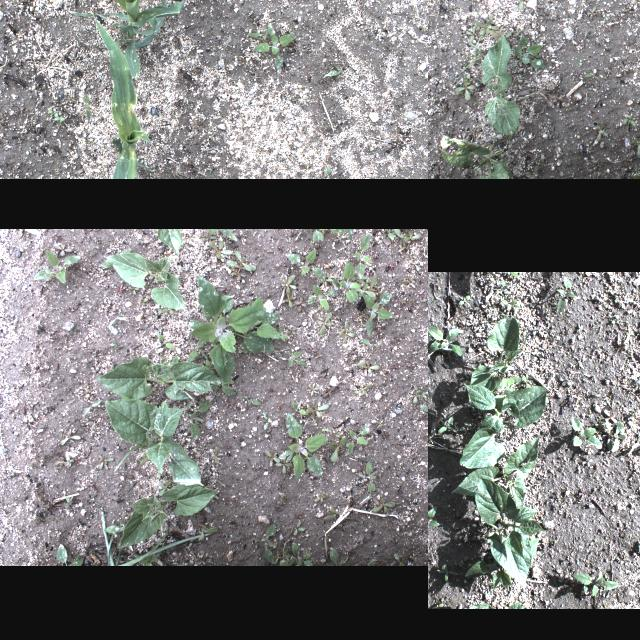crop: (63, 10, 154, 179), (68, 0, 184, 81), (104, 399, 204, 487), (459, 382, 546, 471), (467, 502, 549, 588), (450, 436, 540, 508), (119, 484, 219, 548), (95, 354, 221, 400), (101, 251, 185, 309), (465, 318, 525, 396), (480, 33, 520, 134), (438, 133, 514, 179), (158, 228, 182, 256), (437, 417, 457, 433), (428, 506, 440, 530)
weed: (188, 274, 280, 386), (286, 412, 326, 478), (247, 22, 295, 68), (361, 290, 399, 340), (34, 248, 82, 282), (284, 248, 326, 280), (570, 570, 618, 598), (451, 41, 485, 79), (428, 324, 466, 356), (513, 34, 545, 70), (571, 414, 601, 448), (338, 260, 362, 302), (600, 418, 628, 452), (460, 15, 498, 40), (227, 250, 256, 280), (346, 420, 370, 456), (259, 522, 279, 564), (356, 230, 372, 280), (356, 459, 378, 495), (307, 284, 337, 310), (191, 398, 209, 439), (554, 278, 574, 314), (454, 74, 478, 100), (288, 542, 314, 566), (55, 543, 83, 565), (188, 333, 206, 365), (398, 228, 420, 252), (434, 562, 458, 582), (625, 129, 640, 159), (331, 434, 347, 462), (208, 240, 232, 258), (306, 400, 328, 418), (338, 320, 354, 344), (464, 602, 528, 608), (157, 331, 176, 351), (284, 349, 306, 366), (582, 4, 598, 26), (316, 312, 332, 334), (371, 498, 395, 512), (594, 120, 610, 140), (276, 454, 292, 474), (621, 110, 637, 128), (494, 276, 512, 292), (456, 292, 472, 310), (602, 10, 616, 30), (358, 358, 378, 372), (578, 67, 600, 79), (82, 92, 91, 120), (283, 274, 297, 292), (501, 298, 521, 310), (507, 0, 530, 10), (419, 399, 428, 424), (282, 288, 294, 306), (446, 4, 460, 16), (619, 0, 640, 8), (574, 54, 584, 66), (620, 64, 628, 76)
